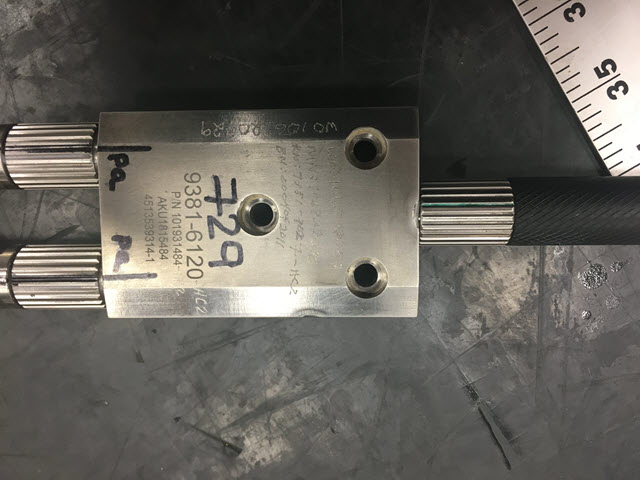character: (180, 169, 202, 184), (180, 184, 203, 198), (186, 266, 205, 281), (185, 254, 205, 268), (183, 219, 207, 230), (184, 208, 204, 221), (181, 197, 202, 209), (184, 230, 205, 242), (184, 243, 206, 253), (170, 199, 183, 210), (169, 190, 183, 199), (170, 247, 185, 255), (155, 195, 167, 205), (170, 228, 183, 237), (157, 247, 170, 256), (144, 245, 157, 254), (170, 253, 184, 261), (141, 199, 155, 207), (156, 204, 168, 213), (170, 217, 183, 225), (156, 241, 169, 249), (143, 240, 156, 248), (158, 235, 169, 244), (144, 234, 155, 243), (170, 235, 184, 242), (170, 241, 184, 248), (142, 229, 156, 236), (142, 210, 154, 218), (156, 218, 169, 225), (142, 192, 155, 199), (142, 257, 157, 263), (157, 211, 168, 219), (142, 217, 154, 224), (142, 224, 154, 231), (143, 252, 157, 258), (170, 211, 183, 217), (157, 254, 170, 260), (173, 259, 184, 266), (157, 224, 168, 231), (171, 223, 183, 229), (157, 231, 168, 237), (142, 206, 154, 211)
